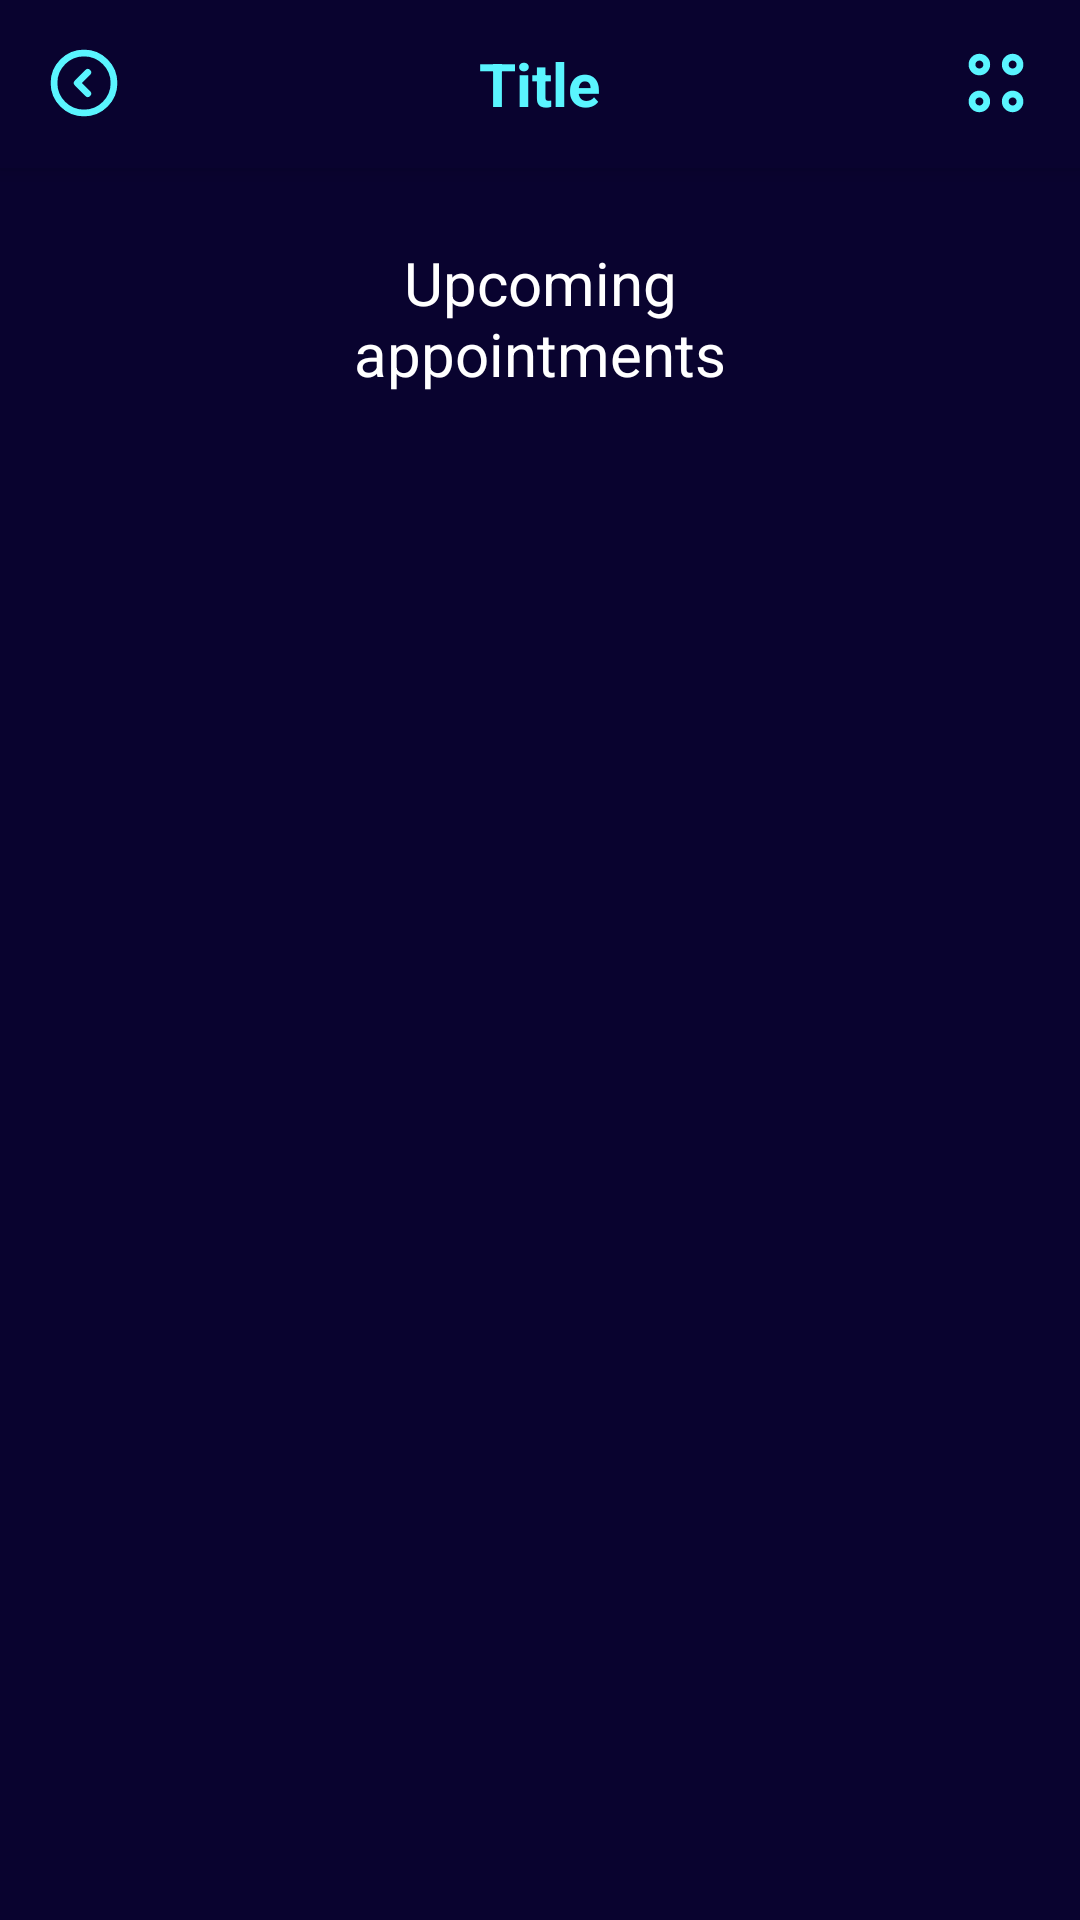

Icons on this 1080px×1920px Android screen, each with its box as (x1, y1, x2, y2):
arrow circle left: (50, 49, 118, 117)
